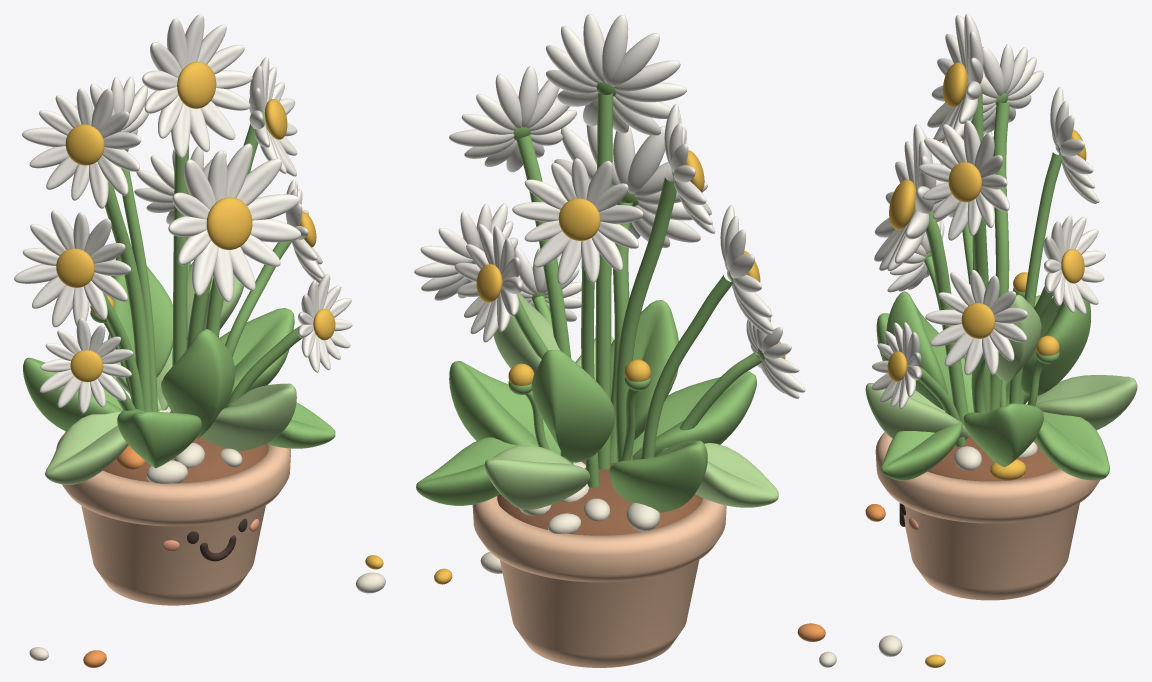
Rendered from flower.glb.
3 views of the same model, side by side, from view 1: azimuth 30°, elevation 25°; view 2: azimuth 150°, elevation 25°; view 3: azimuth 270°, elevation 25° (orthographic). The views are drawn at different scales.
Parts seen in each view (by area): view 1: pot, leaf-9, leaf-4, leaf-6, leaf-3, leaf-0, stem-1, leaf-2, leaf-8, soil, stem-0, stem-8 (+56 smaller); view 2: pot, leaf-8, leaf-0, leaf-2, leaf-1, leaf-3, stem-1, soil, leaf-5, stem-0, leaf-6, leaf-9 (+41 smaller); view 3: pot, leaf-1, leaf-5, leaf-0, leaf-8, leaf-7, leaf-4, leaf-9, stem-1, stem-3, soil, stem-8 (+39 smaller).
Boxes of the visible parts, x1,y1,x2,y2 form: pot: (56,431,290,605); leaf-9: (161,329,235,439); leaf-4: (201,383,296,451); leaf-6: (45,411,128,484); leaf-3: (117,409,201,468); leaf-0: (219,308,294,407); stem-1: (105,182,152,411); leaf-2: (23,357,131,431); leaf-8: (106,256,172,377); soil: (103,406,268,483); stem-0: (172,145,188,412); stem-8: (121,149,157,411); pot: (472,496,726,667); leaf-8: (531,350,614,462); leaf-0: (449,361,560,455); leaf-2: (609,440,707,512); leaf-1: (484,445,589,509); leaf-3: (632,371,756,459); stem-1: (615,177,676,461); soil: (497,460,701,535); leaf-5: (416,437,537,505); stem-0: (595,92,612,469); leaf-6: (660,443,778,507); leaf-9: (611,300,678,439); pot: (875,432,1099,600); leaf-1: (1035,375,1137,430); leaf-5: (1034,411,1109,480); leaf-0: (963,403,1043,467); leaf-8: (1021,297,1090,395); leaf-7: (880,421,962,480); leaf-4: (865,383,969,439); leaf-9: (886,291,953,409); stem-1: (990,102,1009,411); stem-3: (925,209,968,425); soil: (927,435,1059,481); stem-8: (1020,152,1062,403).
Bounding box in the file's own units: 0.4063 × 0.6281 × 0.2734.
